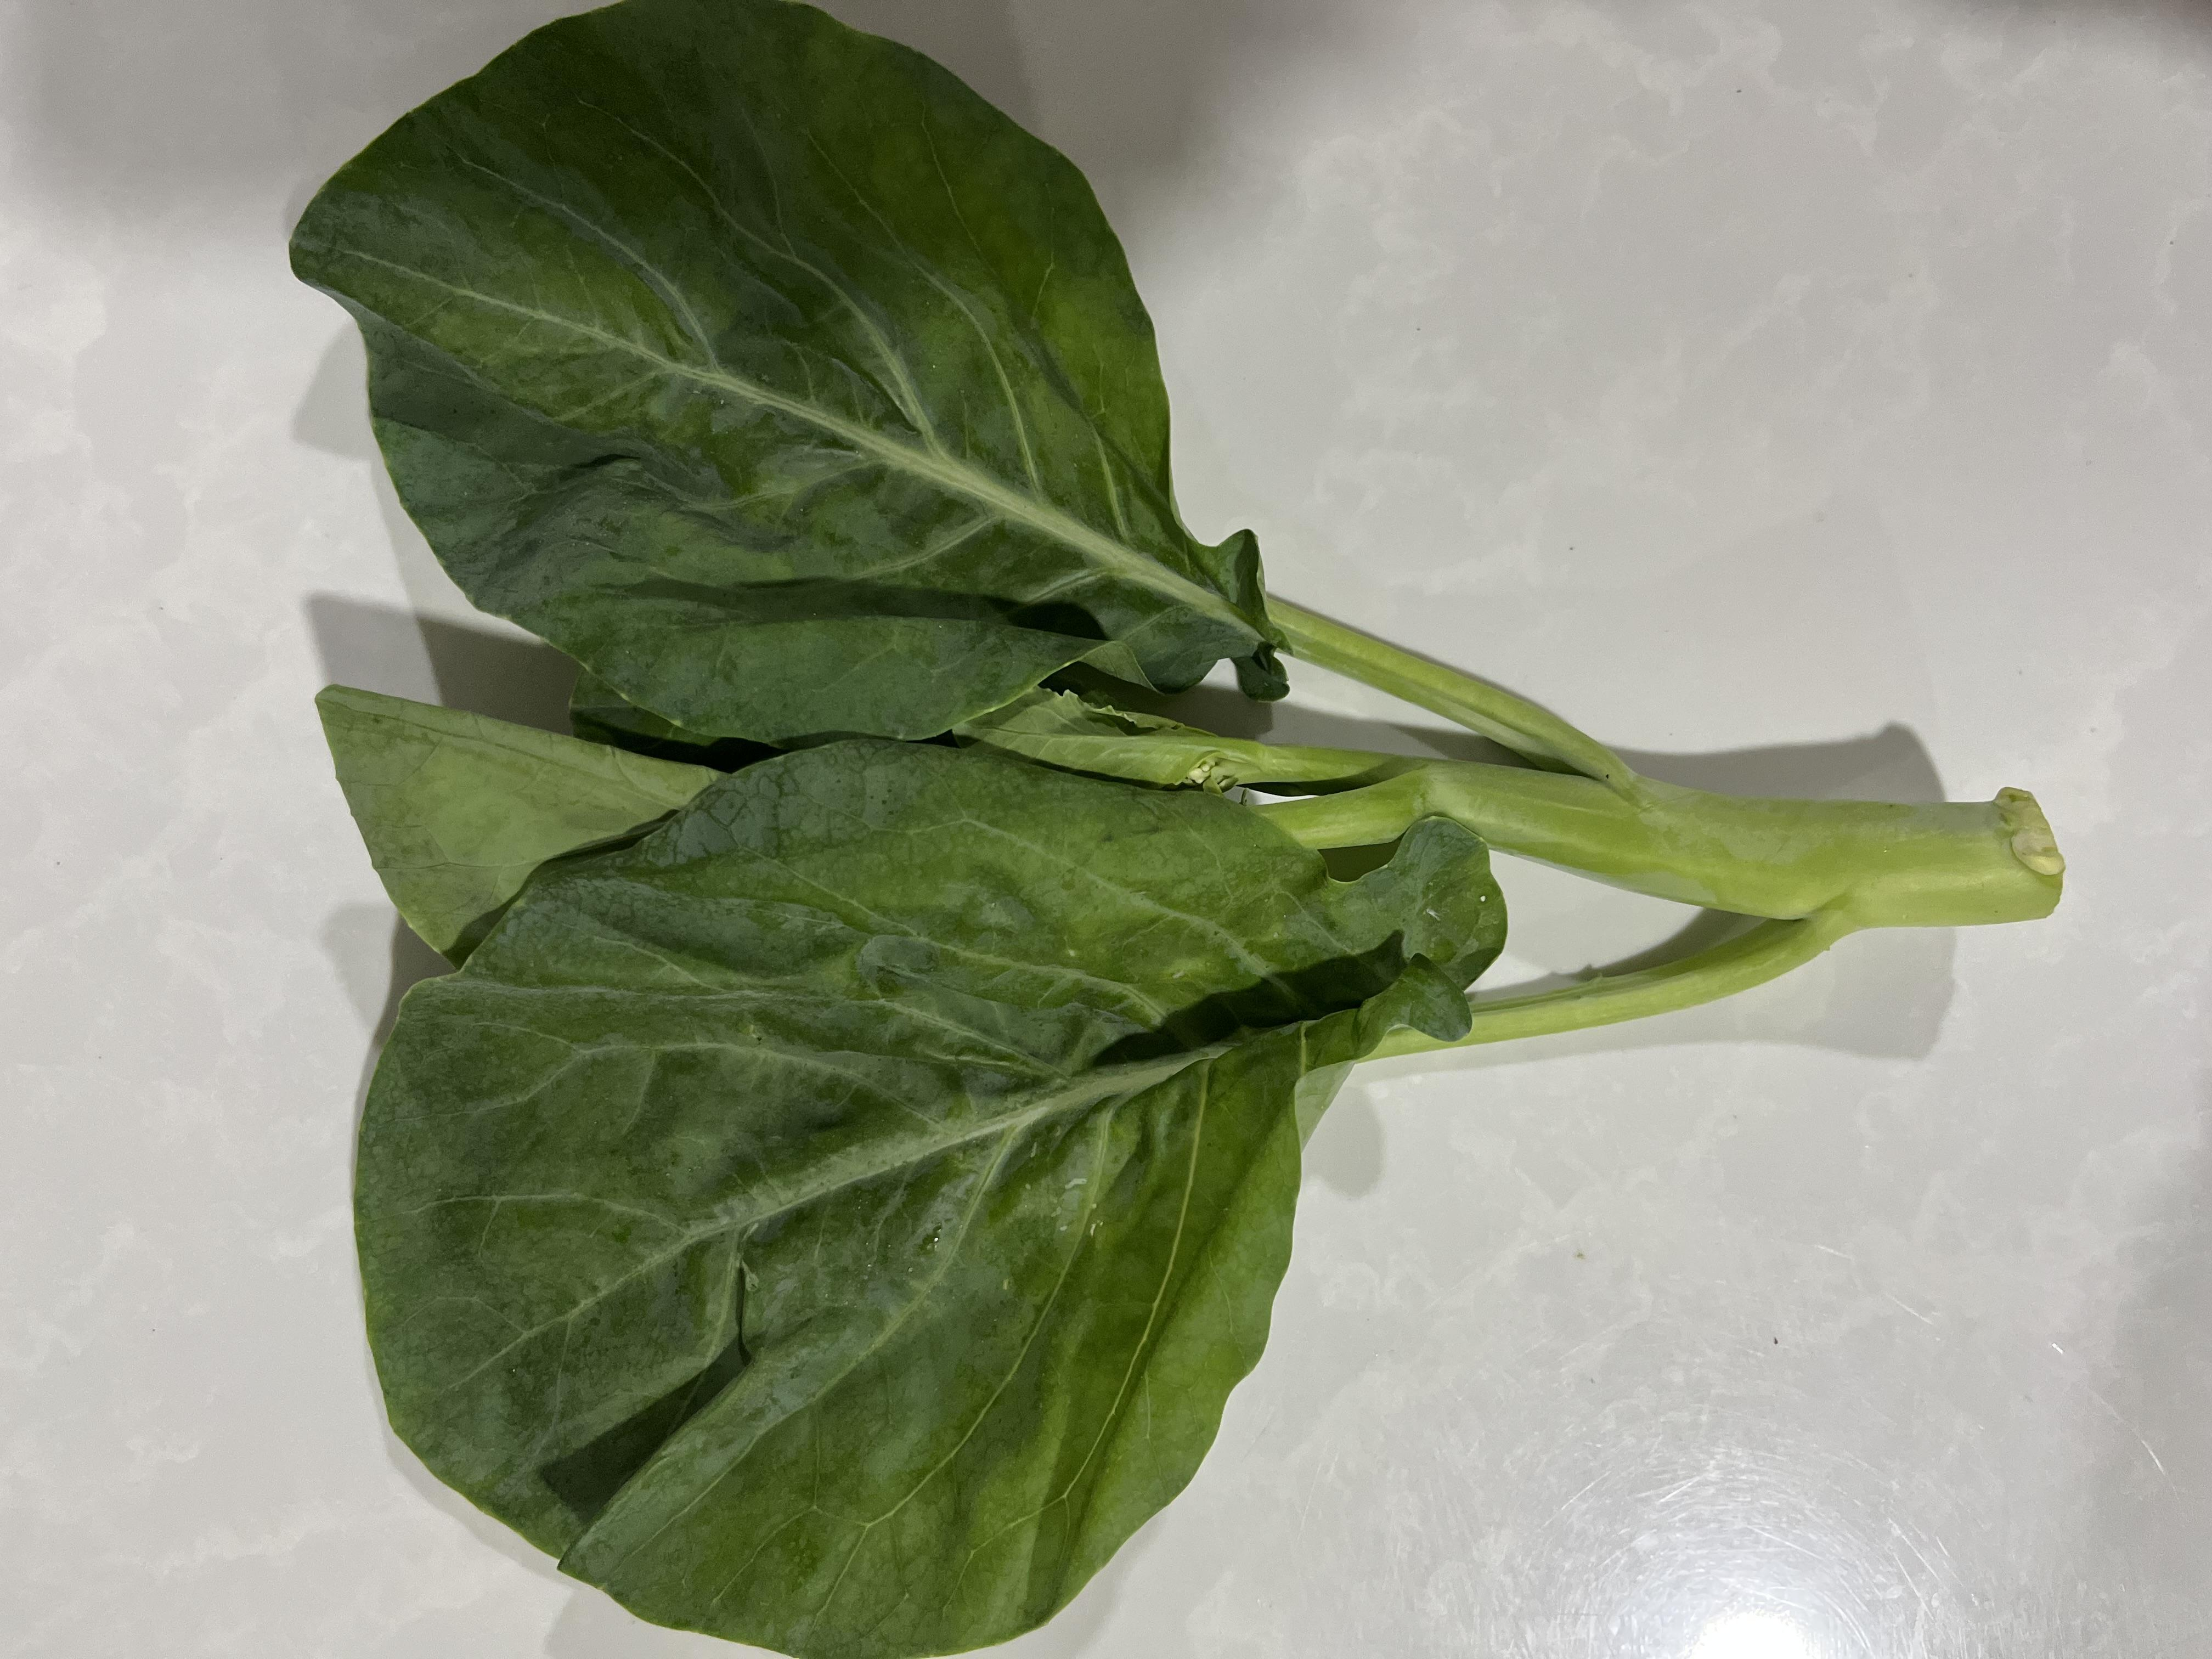Healthy-Pechay: (171, 33, 1700, 1530)
